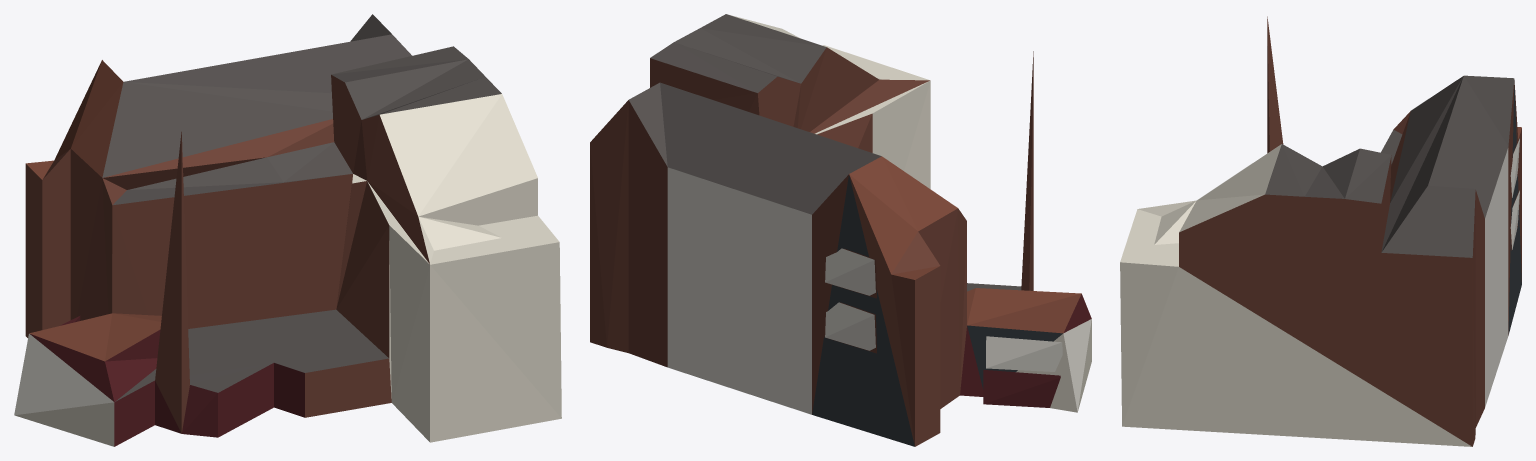
File: reinwardt-academie.lod2.glb
The picture shows the model from 3 angles, left to right: view 1: azimuth 30°, elevation 25°; view 2: azimuth 150°, elevation 25°; view 3: azimuth 270°, elevation 25°; orthographic projection. The views are drawn at different scales.
Parts seen in each view (by area): view 1: lod2; view 2: lod2; view 3: lod2.
Part boxes in pixels (x1,y1,x2,y2): lod2: (14,14,561,446); lod2: (590,14,1091,446); lod2: (1120,16,1521,446).
Bounding box in the file's own units: 36.65 × 23.57 × 30.82.
